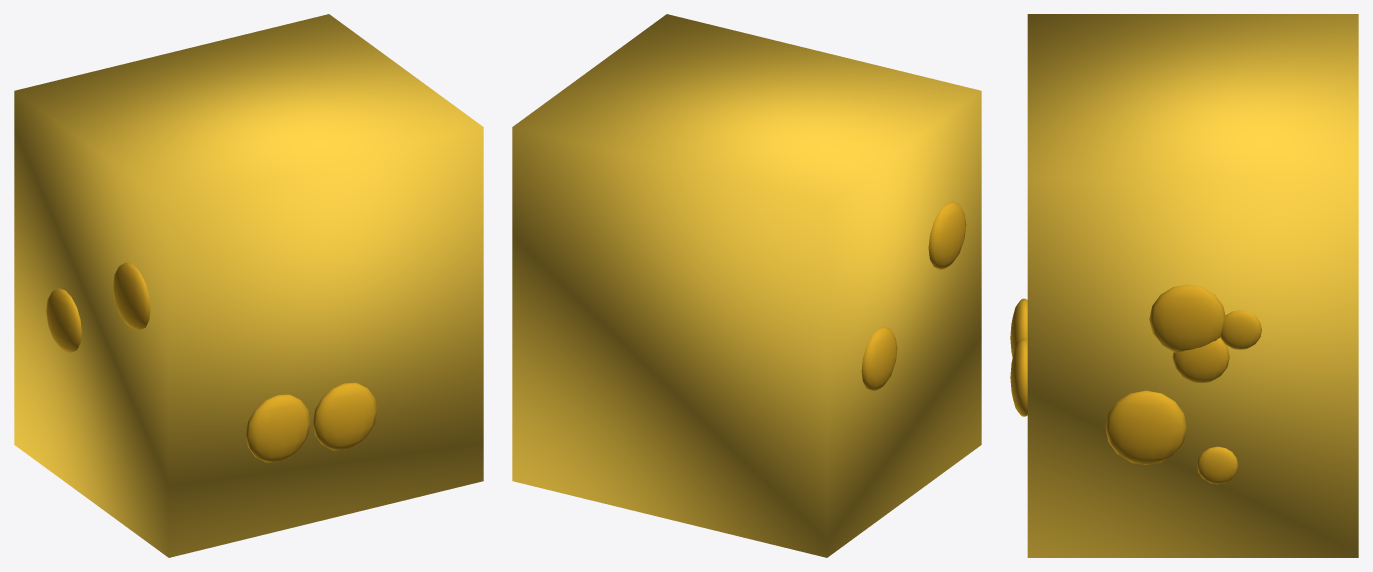
File: tb_mat_ost.glb
3 renders of one model, left to right at view 1: azimuth 30°, elevation 25°; view 2: azimuth 150°, elevation 25°; view 3: azimuth 270°, elevation 25°, orthographic. The views are drawn at different scales.
Visible parts, largest first — view 1: matkropp; view 2: matkropp; view 3: matkropp.
Boxes of the visible parts, x1,y1,x2,y2 form: matkropp: (14, 14, 483, 557); matkropp: (512, 14, 981, 557); matkropp: (1010, 14, 1358, 557).
Size of the model in its own units: 0.8121 by 0.817 by 0.6798.
